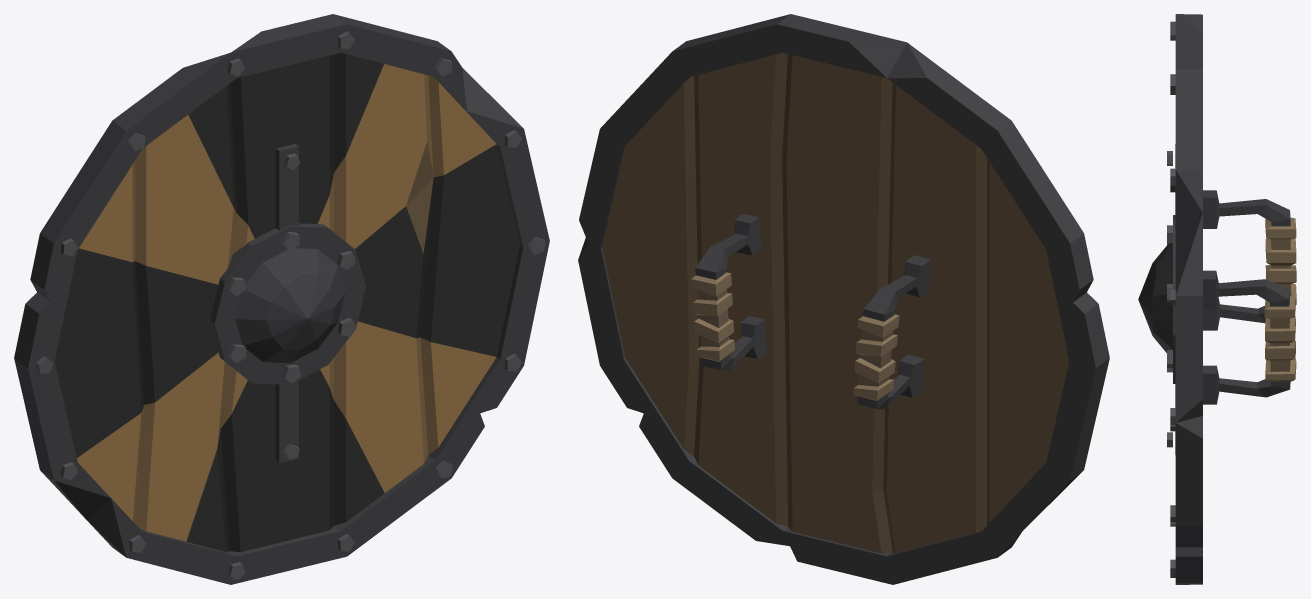
The model's file is Escudo_06.glb.
The picture shows the model from 3 angles, left to right: view 1: azimuth 30°, elevation 25°; view 2: azimuth 150°, elevation 25°; view 3: azimuth 270°, elevation 25°; orthographic projection. The views are drawn at different scales.
Visible parts, largest first — view 1: SM_Wep_Shield_05; view 2: SM_Wep_Shield_05; view 3: SM_Wep_Shield_05.
Part boxes in pixels (x1,y1,x2,y2): SM_Wep_Shield_05: (14, 14, 549, 584); SM_Wep_Shield_05: (578, 14, 1109, 584); SM_Wep_Shield_05: (1138, 14, 1296, 584).
Size of the model in its own units: 0.7578 by 0.7388 by 0.2058.
1 material, 1 textured.
